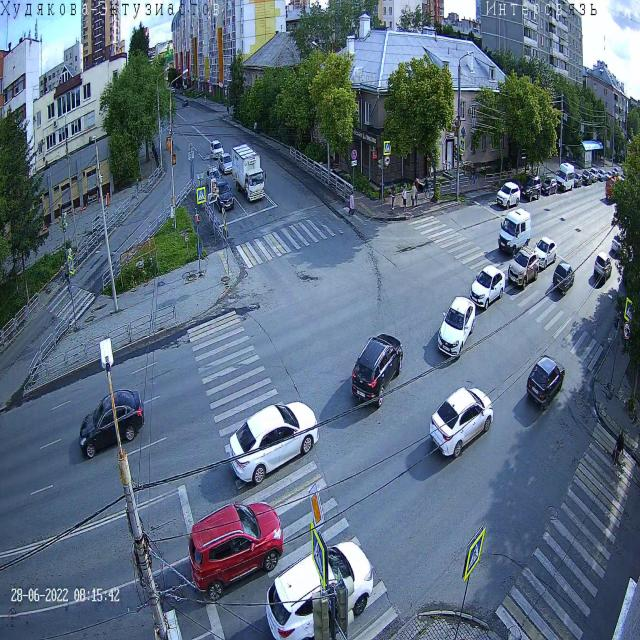car: (265, 540, 374, 640), (187, 500, 284, 601), (228, 400, 320, 483), (428, 386, 494, 459), (78, 388, 145, 459), (351, 332, 404, 409), (436, 295, 476, 359), (526, 354, 565, 411), (469, 264, 506, 311), (508, 244, 540, 292), (532, 235, 558, 271), (552, 258, 575, 296), (212, 177, 236, 213), (496, 182, 521, 210), (592, 250, 612, 284), (520, 174, 542, 202), (610, 230, 628, 258), (204, 165, 223, 191), (218, 152, 234, 176), (540, 176, 558, 197), (210, 139, 224, 159), (581, 168, 593, 187), (571, 171, 583, 189), (589, 167, 599, 183), (597, 168, 606, 182), (611, 166, 621, 178), (604, 170, 614, 182), (182, 99, 188, 107)
pedestrian: (612, 427, 624, 468), (65, 262, 73, 295), (378, 174, 386, 204), (401, 186, 408, 213), (422, 175, 429, 199), (390, 184, 396, 212), (410, 180, 416, 207), (348, 191, 354, 218), (471, 164, 476, 187), (414, 186, 419, 208), (136, 177, 140, 199), (254, 120, 258, 136), (227, 104, 231, 118), (566, 148, 569, 165), (204, 93, 207, 105)
shuttle_taxi: (555, 162, 575, 194)
truck: (230, 143, 268, 203), (498, 206, 532, 258), (605, 172, 629, 205)
